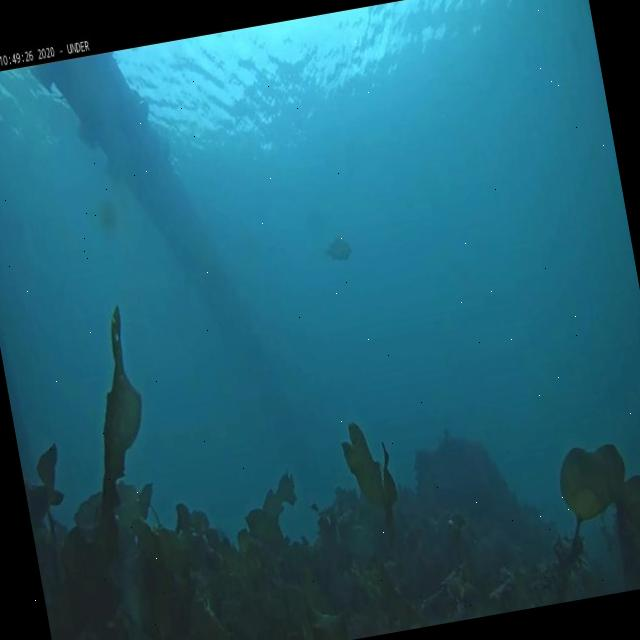fish: (322, 234, 358, 268)
